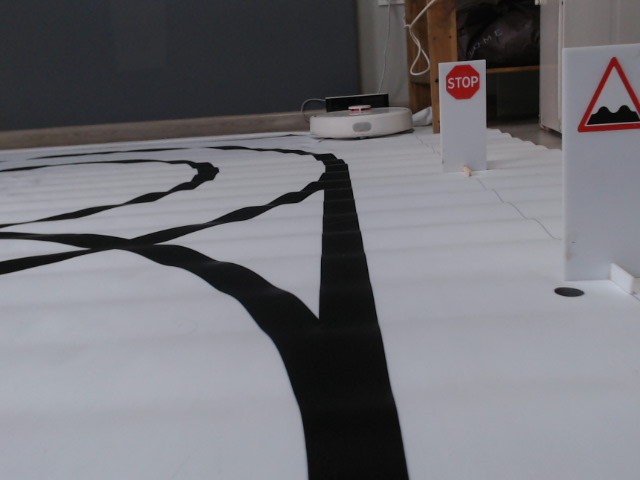Nerov: (576, 56, 640, 136)
